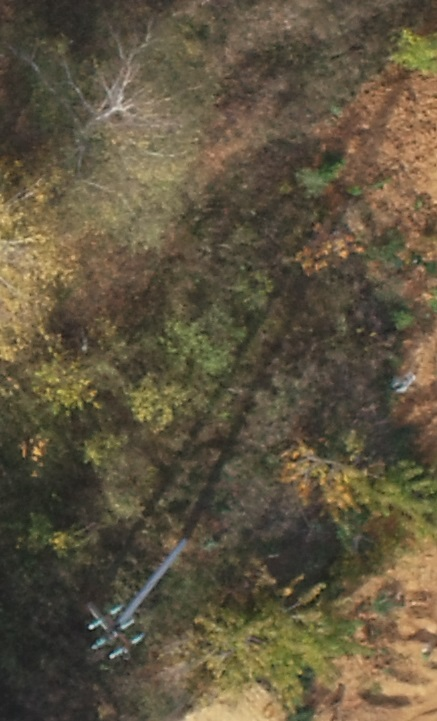opora: (86, 490, 207, 666)
